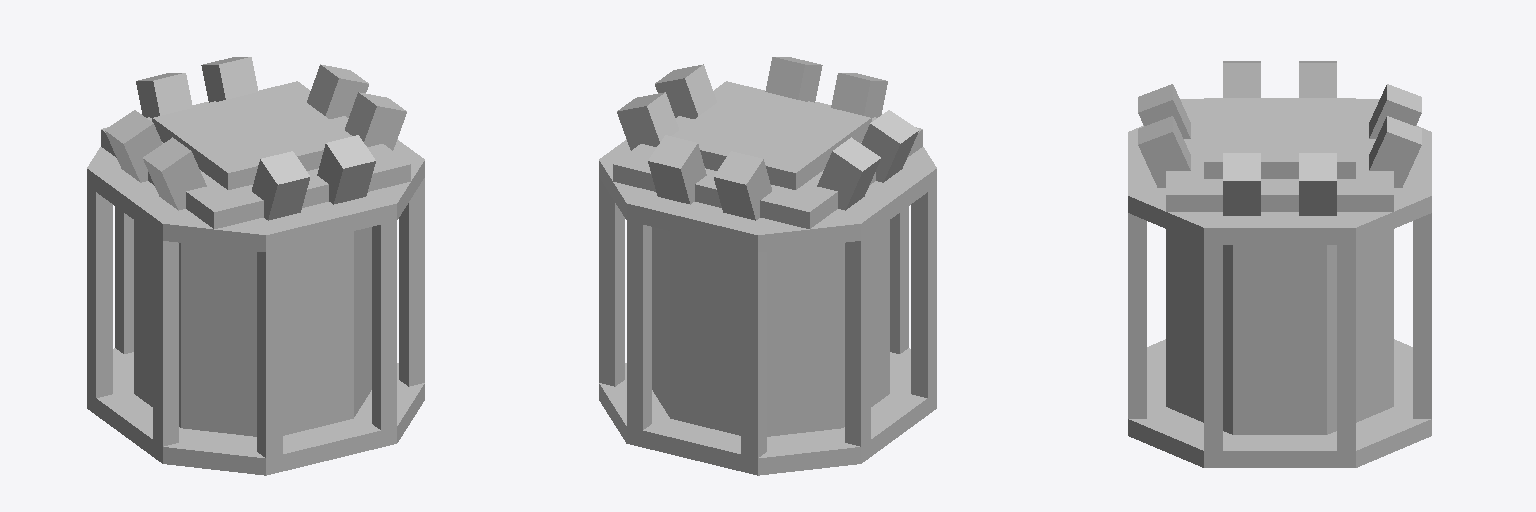
File: reactor_cell.obj
The picture shows the model from 3 angles: view 1: azimuth 30°, elevation 25°; view 2: azimuth 150°, elevation 25°; view 3: azimuth 270°, elevation 25°; orthographic projection.
Visible parts, largest first — view 1: cube; view 2: cube; view 3: cube.
Boxes of the visible parts, x1=… form: cube: x1=87, y1=57, x2=424, y2=475; cube: x1=599, y1=57, x2=936, y2=475; cube: x1=1128, y1=61, x2=1431, y2=467.
Bounding box in the file's own units: 16 × 17.27 × 16.